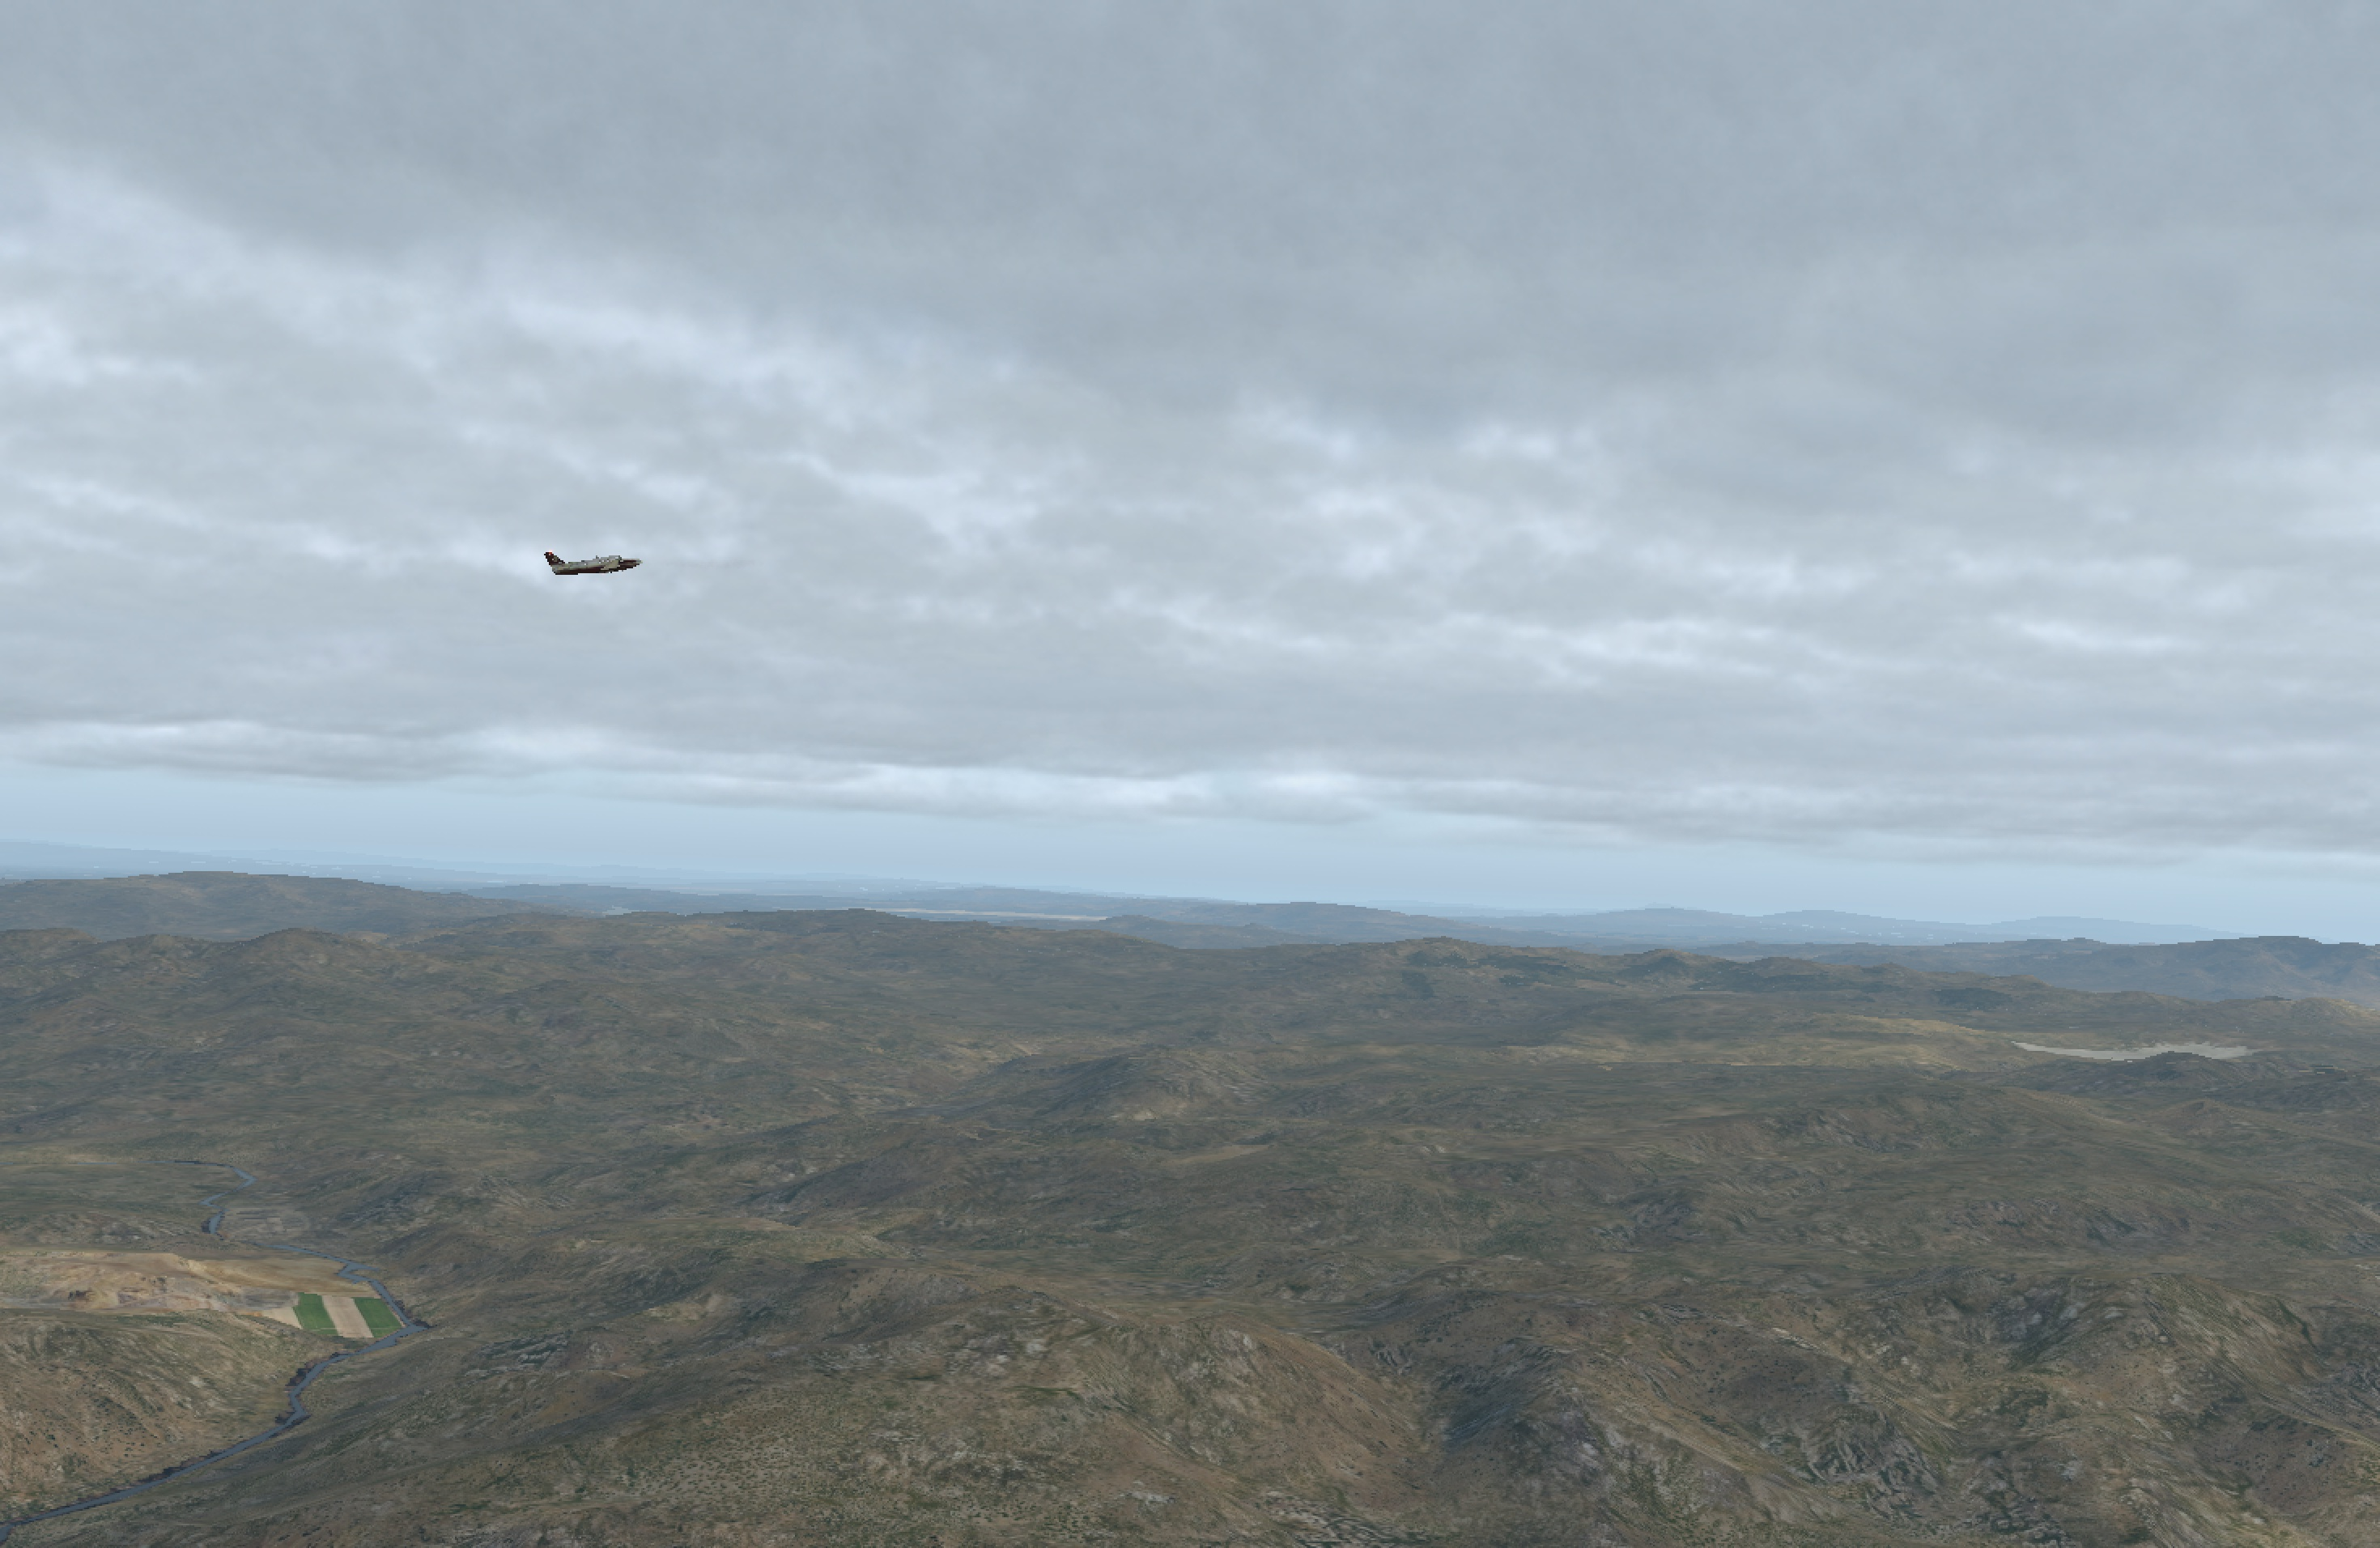aircraft: (550, 545, 678, 594)
